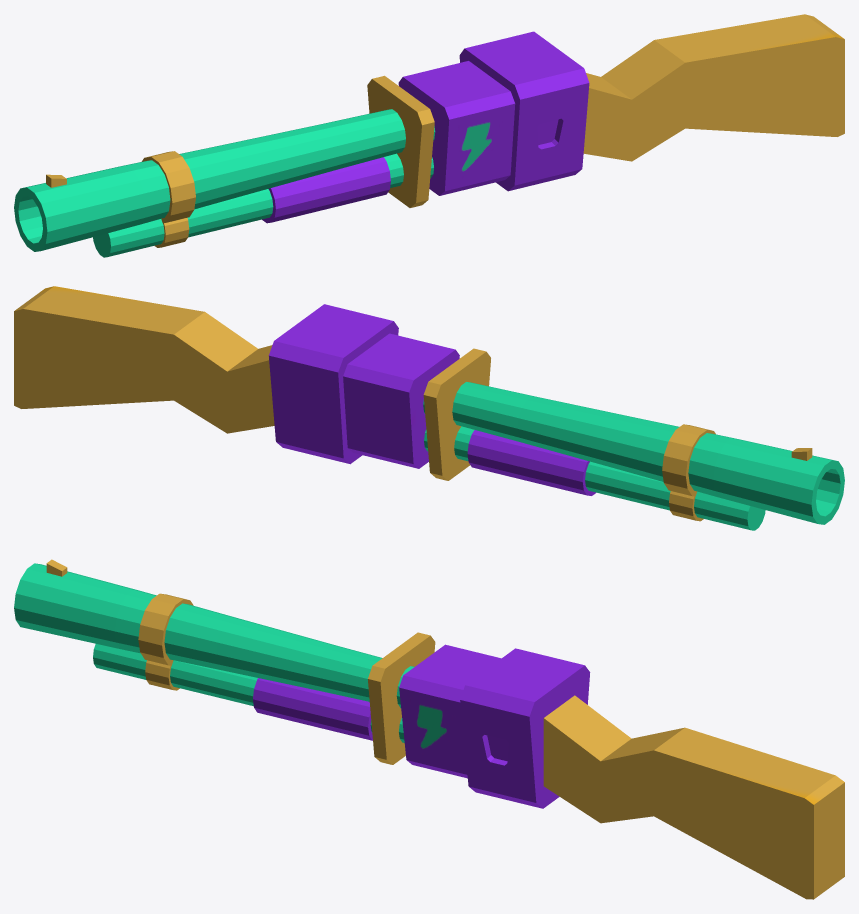
Rendered from Petit shotgun.fbx.
3 renders of one model, top to bottom at view 1: azimuth 30°, elevation 25°; view 2: azimuth 150°, elevation 25°; view 3: azimuth 330°, elevation 25°, orthographic.
Parts seen in each view (by area): view 1: Handle, Reloading grip; view 2: Handle, Reloading grip; view 3: Handle, Reloading grip.
Boxes of the visible parts, x1,y1,x2,y2 form: Handle: [14, 14, 844, 257]; Reloading grip: [262, 157, 390, 223]; Handle: [14, 286, 844, 530]; Reloading grip: [467, 430, 595, 495]; Handle: [14, 559, 844, 899]; Reloading grip: [253, 678, 372, 740].
Bounding box in the file's own units: 174 × 29.1 × 22.93.
